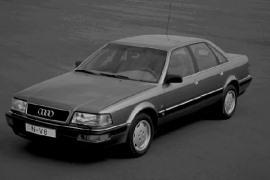car: (8, 35, 255, 159)
